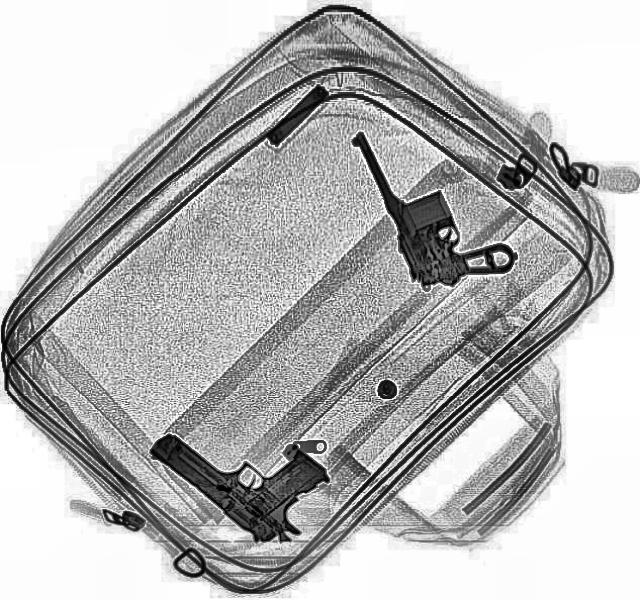Gun: (141, 384, 349, 556), (347, 102, 517, 298)
